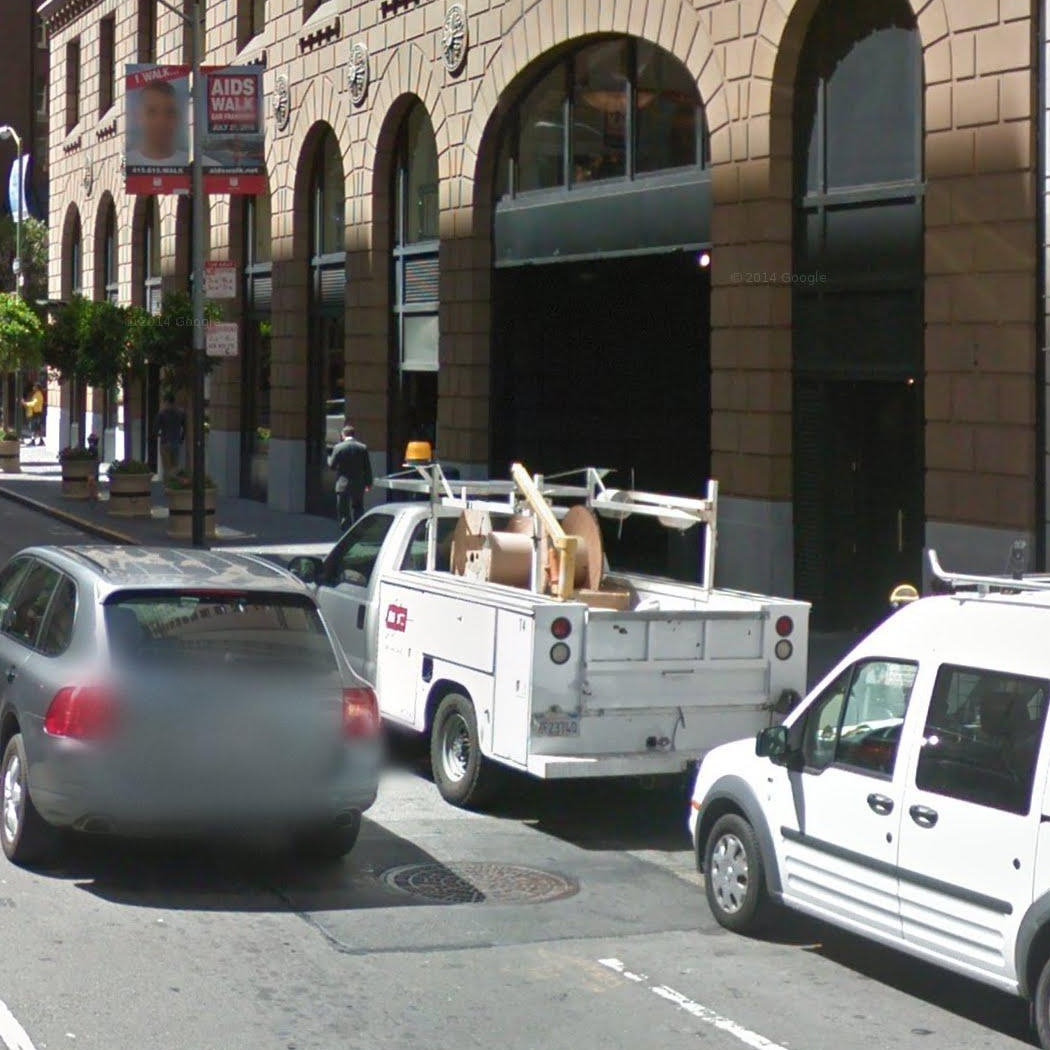No Parking: (205, 321, 238, 357)
